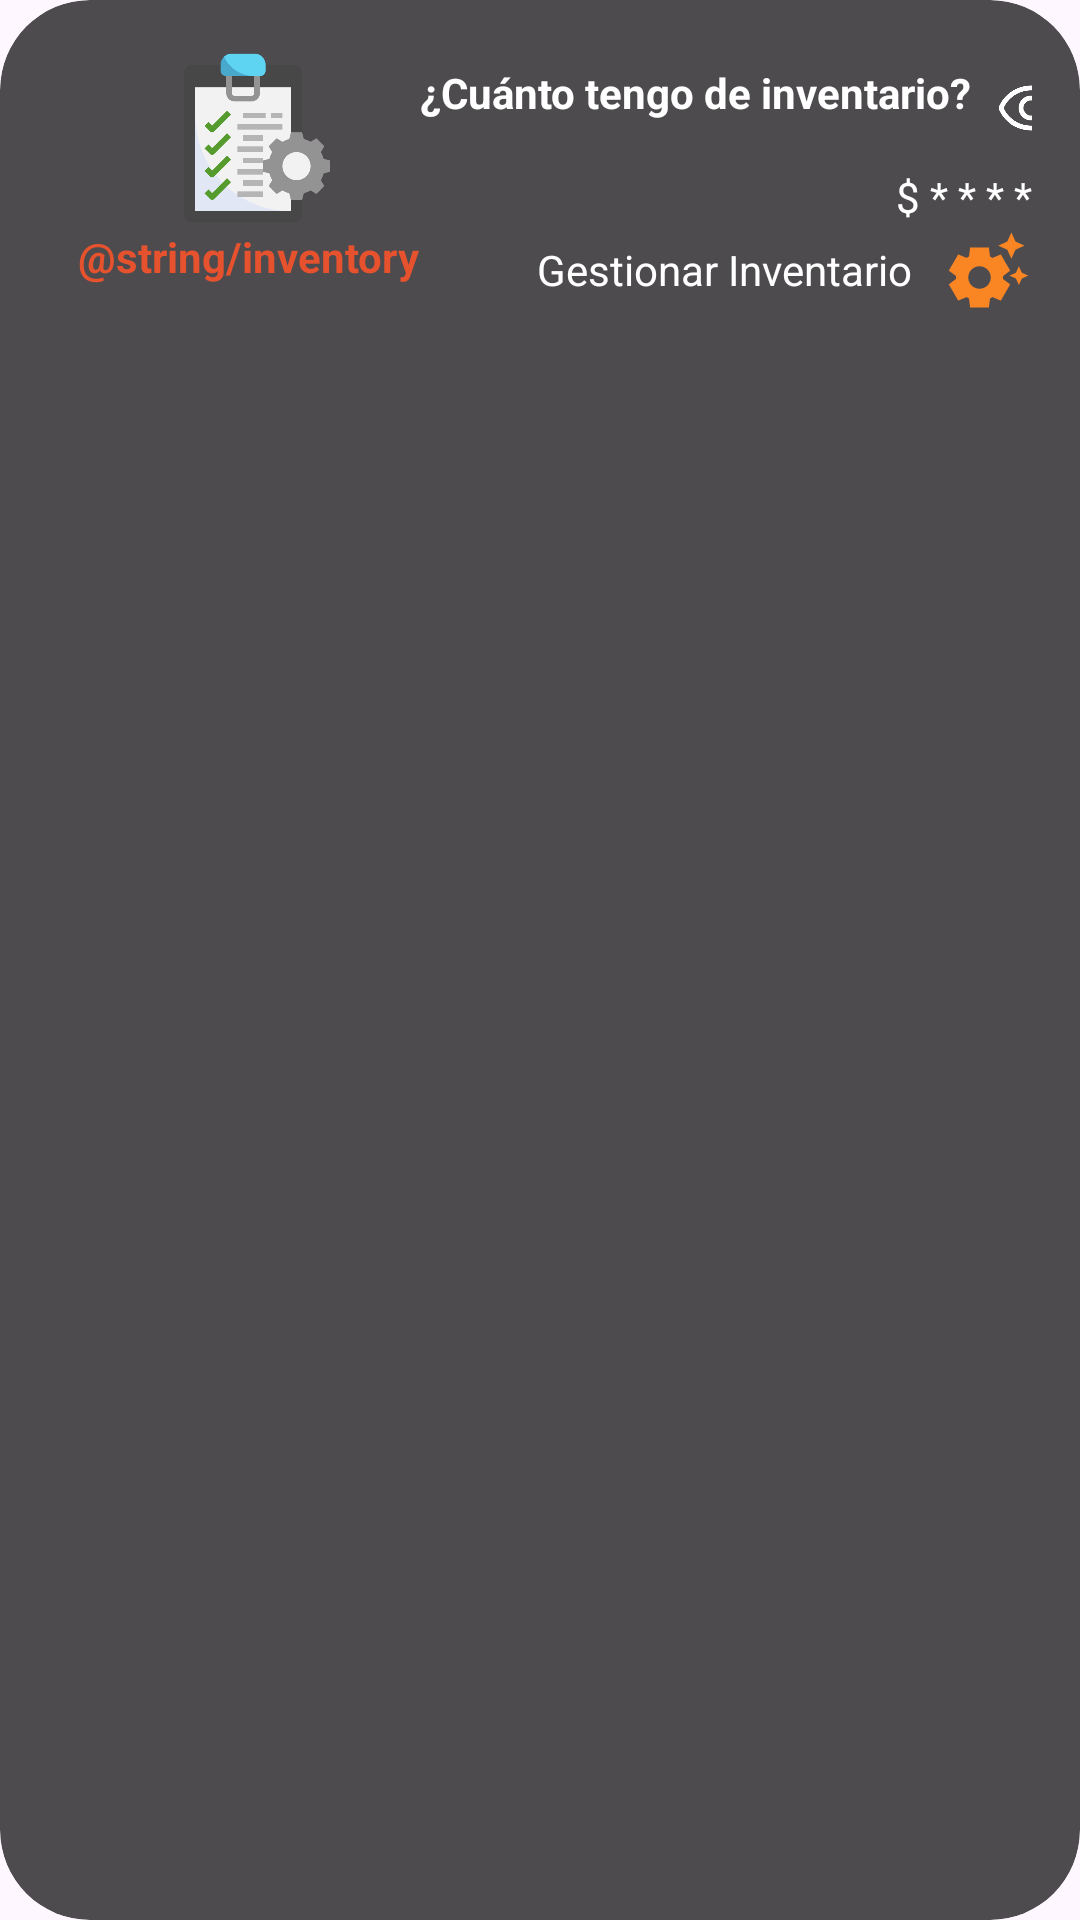

Screen size 1080 x 1920. Icon name, then its box in pixels as {"x1": x1, "y1": y1, "x2": x2, "y2": y2}:
settings: {"x1": 949, "y1": 233, "x2": 1028, "y2": 308}
